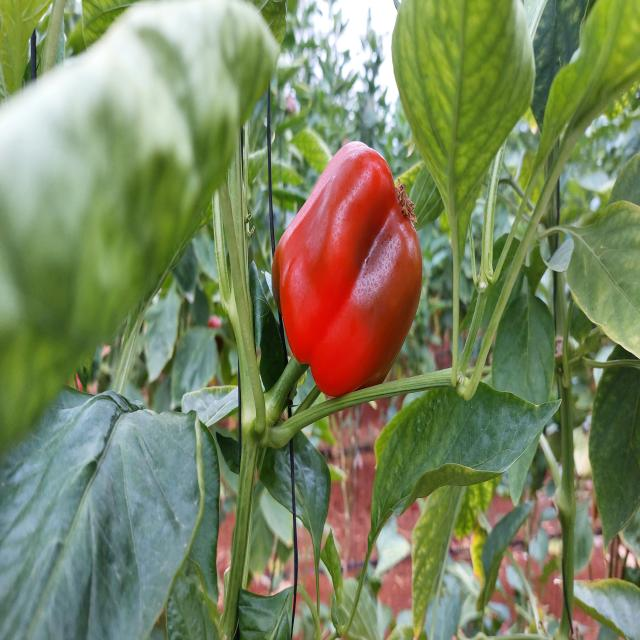Red-Ready-to-Harvest: (272, 143, 434, 398)
